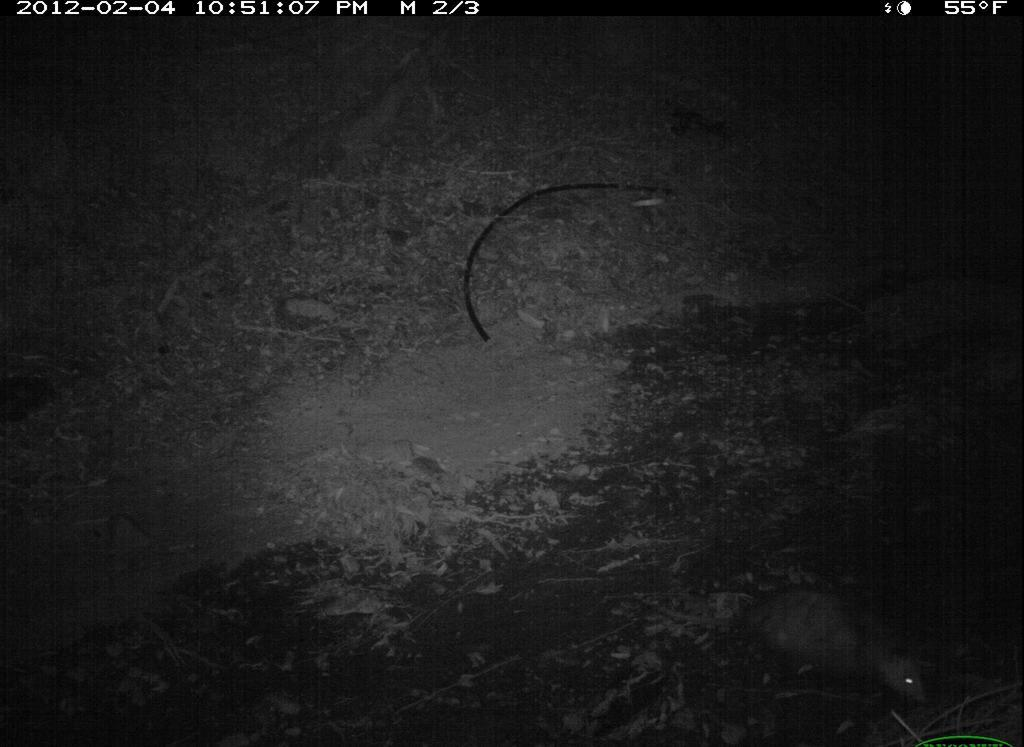opossum: (660, 560, 939, 715)
